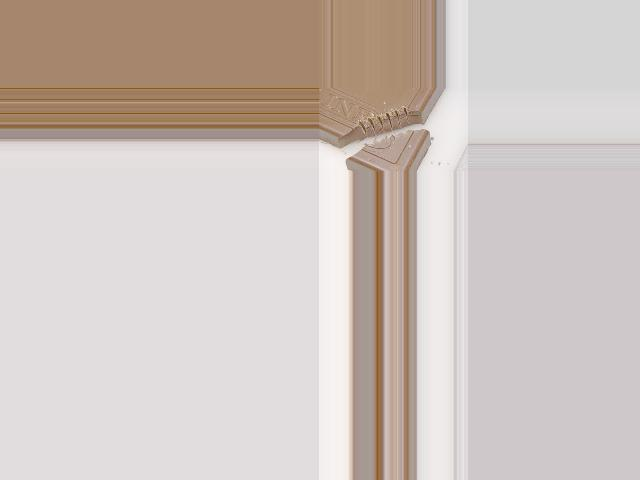chocolate: (319, 89, 446, 171)
